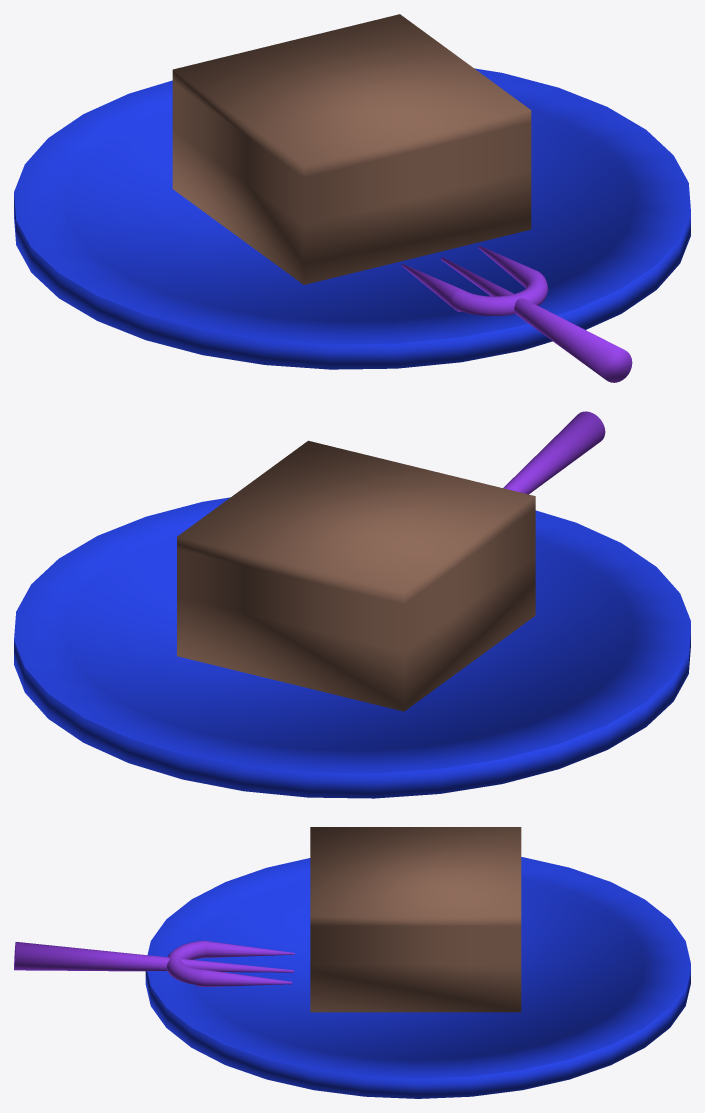
Rendered from coffeeCake.fbx.
The picture shows the model from 3 angles, top to bottom: view 1: azimuth 30°, elevation 25°; view 2: azimuth 150°, elevation 25°; view 3: azimuth 270°, elevation 25°; orthographic projection. The views are drawn at different scales.
Visible parts, largest first — view 1: Plate, Coffee_Cake, Fork; view 2: Plate, Coffee_Cake, Fork; view 3: Plate, Coffee_Cake, Fork.
Part boxes in pixels (x1=…): Plate: x1=14, y1=68, x2=690, y2=369; Coffee_Cake: x1=172, y1=14, x2=531, y2=284; Fork: x1=401, y1=246, x2=632, y2=382; Plate: x1=14, y1=497, x2=690, y2=798; Coffee_Cake: x1=177, y1=440, x2=535, y2=711; Fork: x1=503, y1=411, x2=605, y2=494; Plate: x1=145, y1=857, x2=690, y2=1098; Coffee_Cake: x1=310, y1=827, x2=521, y2=1012; Fork: x1=14, y1=940, x2=294, y2=986.
Size of the model in its own units: 2 by 0.4501 by 2.48.
